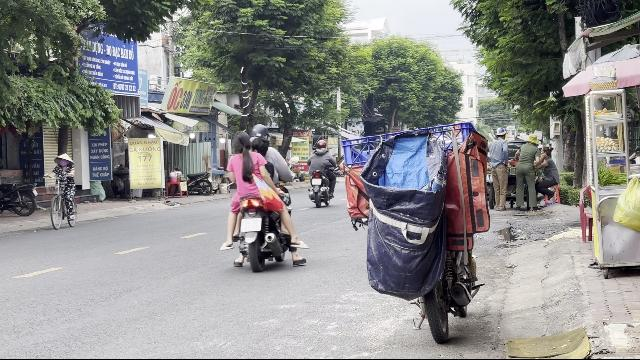helmet: (248, 123, 272, 145)
licenseplate: (241, 218, 261, 232)
motorcyclist: (220, 123, 304, 272)
nohelmet: (230, 130, 250, 154)
